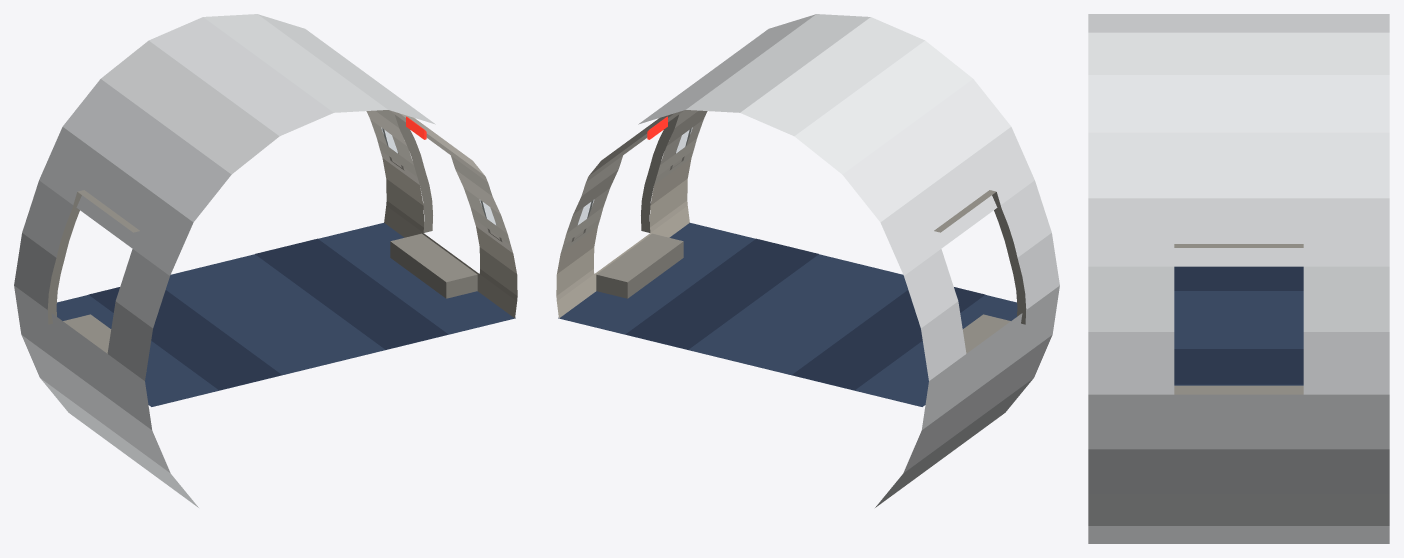
Rendered from ac_section_wing.glb.
The picture shows the model from 3 angles, left to right: view 1: azimuth 30°, elevation 25°; view 2: azimuth 150°, elevation 25°; view 3: azimuth 270°, elevation 25°; orthographic projection. The views are drawn at different scales.
Visible parts, largest first — view 1: ac_section_wing; view 2: ac_section_wing; view 3: ac_section_wing.
Boxes of the visible parts, bbox=[...] form: ac_section_wing: bbox=[14, 14, 517, 507]; ac_section_wing: bbox=[556, 14, 1059, 507]; ac_section_wing: bbox=[1088, 14, 1389, 543].
Bounding box in the file's own units: 6.12 × 6.47 × 3.6.
